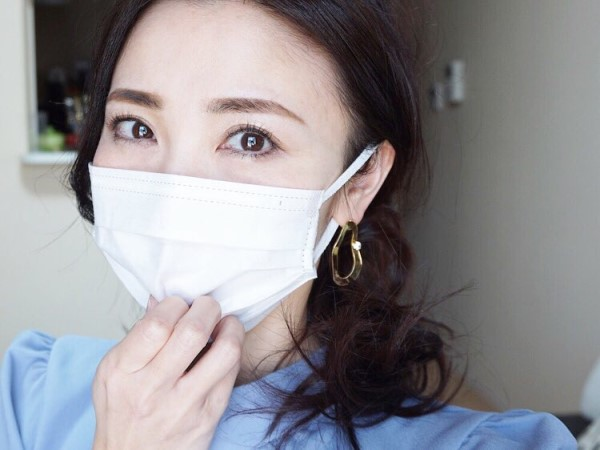mask: (82, 176, 321, 325)
